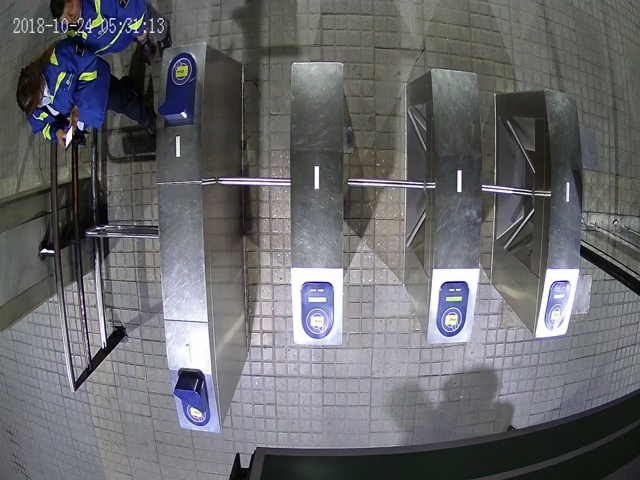Chaleco_azul: (15, 38, 155, 147), (52, 1, 172, 59)
